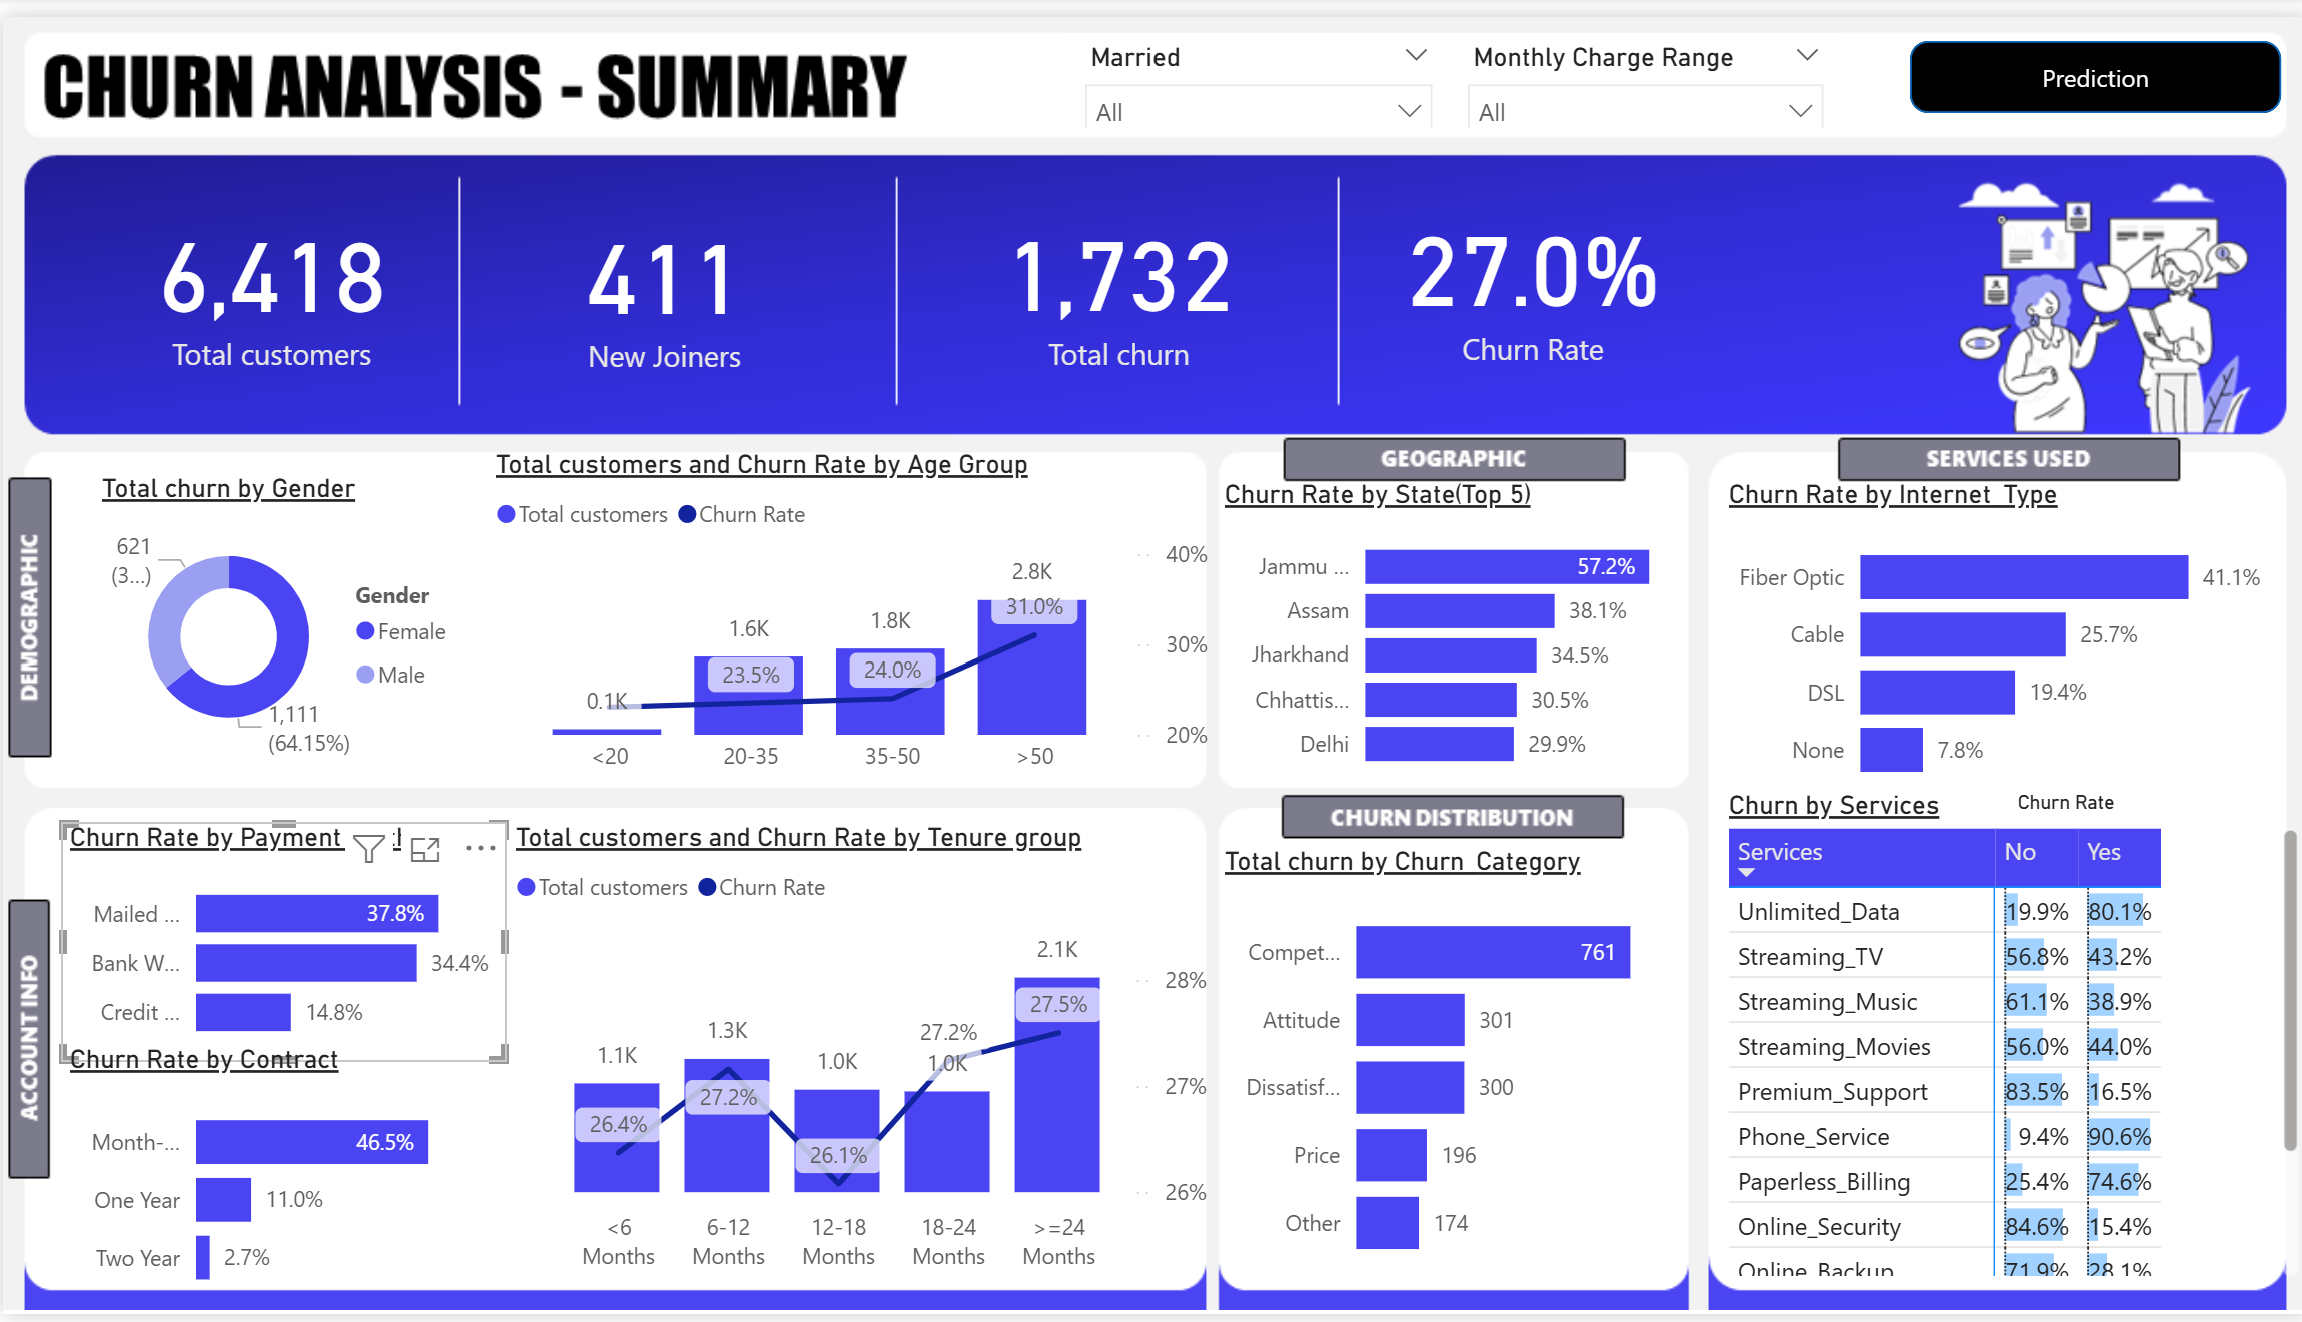

Layout of this report page (visuals, bound fields, positions):
{"tool":"powerbi","page":{"name":"Summary","canvas":[1280,720],"ordinal":0},"visuals":[{"type":"card","fields":{"Values":["Tbl_measures.Total customers"]},"box":[0,14.3,298.6,268.6],"z":0},{"type":"card","fields":{"Values":["Tbl_measures.New Joiners"]},"box":[236.7,45,261.7,208.3],"z":1000},{"type":"card","fields":{"Values":["Tbl_measures.Total churn"]},"box":[498.3,53.3,241.7,190],"z":2000},{"type":"card","fields":{"Values":["Tbl_measures.Churn Rate"]},"box":[726,46,248,200],"z":3000},{"type":"donutChart","fields":{"Category":["prod_Churn.Gender"],"Y":["Tbl_measures.Total churn"]},"box":[50,253.3,211.7,165],"z":4000},{"type":"lineStackedColumnComboChart","fields":{"Y":["Tbl_measures.Total customers"],"Y2":["Tbl_measures.Churn Rate"],"Category":["mapping_agegrp.Age Group"]},"box":[268.3,240,405,188.3],"z":5000},{"type":"clusteredBarChart","fields":{"Category":["prod_Churn.Payment_Method"],"Y":["Tbl_measures.Churn Rate"]},"box":[31.7,446.7,248.3,133.3],"z":6000},{"type":"clusteredBarChart","fields":{"Category":["prod_Churn.Contract"],"Y":["Tbl_measures.Churn Rate"]},"box":[31.7,570,248.3,150],"z":7000},{"type":"lineStackedColumnComboChart","fields":{"Y":["Tbl_measures.Total customers"],"Y2":["Tbl_measures.Churn Rate"],"Category":["mappping_tenuregrp.Tenure group"]},"box":[280,446.7,393.3,256.7],"z":8000},{"type":"clusteredBarChart","title":"Churn Rate by State(Top 5)","fields":{"Category":["prod_Churn.State"],"Y":["Tbl_measures.Churn Rate"]},"box":[673.3,256.7,280,171.7],"z":9000},{"type":"clusteredBarChart","fields":{"Category":["prod_Churn.Churn_Category"],"Y":["Tbl_measures.Total churn"]},"box":[673.3,460,260,245],"z":10000},{"type":"clusteredBarChart","fields":{"Category":["prod_Churn.Internet_Type"],"Y":["Tbl_measures.Churn Rate"]},"box":[953.3,256.7,311.7,190],"z":11000},{"type":"pivotTable","title":"Churn by Services","fields":{"Rows":["prod_services.Services"],"Columns":["prod_services.Status"],"Values":["Sum(prod_services.Churn Status)"]},"box":[953.3,428.3,326.7,275],"z":12000},{"type":"slicer","fields":{"Values":["prod_Churn.Married"]},"box":[591.2,8.8,212.5,52.5],"z":13000},{"type":"slicer","fields":{"Values":["prod_Churn.Monthly Charge Status"]},"box":[803.8,8.8,217.5,52.5],"z":14000},{"type":"shape","title":"Summar","box":[1058.8,13.8,206.2,40],"z":15001}]}

Visuals, with their boxes in screenshot pixels (x1, y1, x2, y2), scaled from the page's 1280x720 canvas onto the 2302x1322 screenshot:
card - Tbl_measures.Total customers: box=[0, 26, 537, 519]
card - Tbl_measures.New Joiners: box=[426, 83, 896, 465]
card - Tbl_measures.Total churn: box=[896, 98, 1331, 447]
card - Tbl_measures.Churn Rate: box=[1306, 84, 1752, 452]
donutChart - prod_Churn.Gender x Tbl_measures.Total churn: box=[90, 465, 471, 768]
lineStackedColumnComboChart - Tbl_measures.Total customers x Tbl_measures.Churn Rate: box=[483, 441, 1211, 786]
clusteredBarChart - prod_Churn.Payment_Method x Tbl_measures.Churn Rate: box=[57, 820, 504, 1065]
clusteredBarChart - prod_Churn.Contract x Tbl_measures.Churn Rate: box=[57, 1047, 504, 1321]
lineStackedColumnComboChart - Tbl_measures.Total customers x Tbl_measures.Churn Rate: box=[504, 820, 1211, 1292]
"Churn Rate by State(Top 5)" clusteredBarChart: box=[1211, 471, 1714, 787]
clusteredBarChart - prod_Churn.Churn_Category x Tbl_measures.Total churn: box=[1211, 845, 1678, 1294]
clusteredBarChart - prod_Churn.Internet_Type x Tbl_measures.Churn Rate: box=[1714, 471, 2275, 820]
"Churn by Services" pivotTable: box=[1714, 786, 2301, 1291]
slicer - prod_Churn.Married: box=[1063, 16, 1445, 113]
slicer - prod_Churn.Monthly Charge Status: box=[1446, 16, 1837, 113]
"Summar" shape: box=[1904, 25, 2275, 99]
